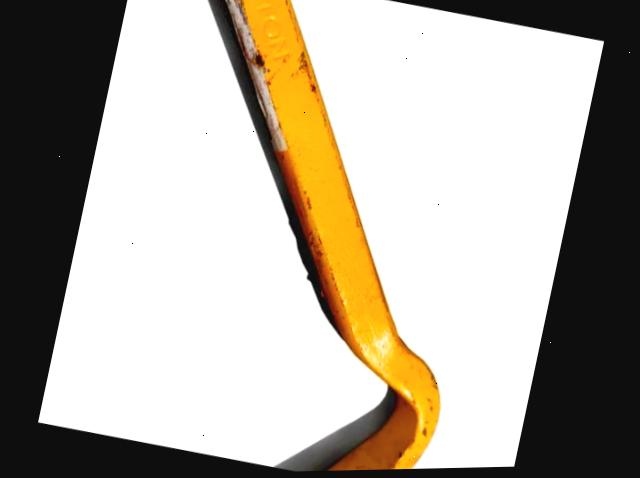crow bar: (207, 0, 465, 473)
